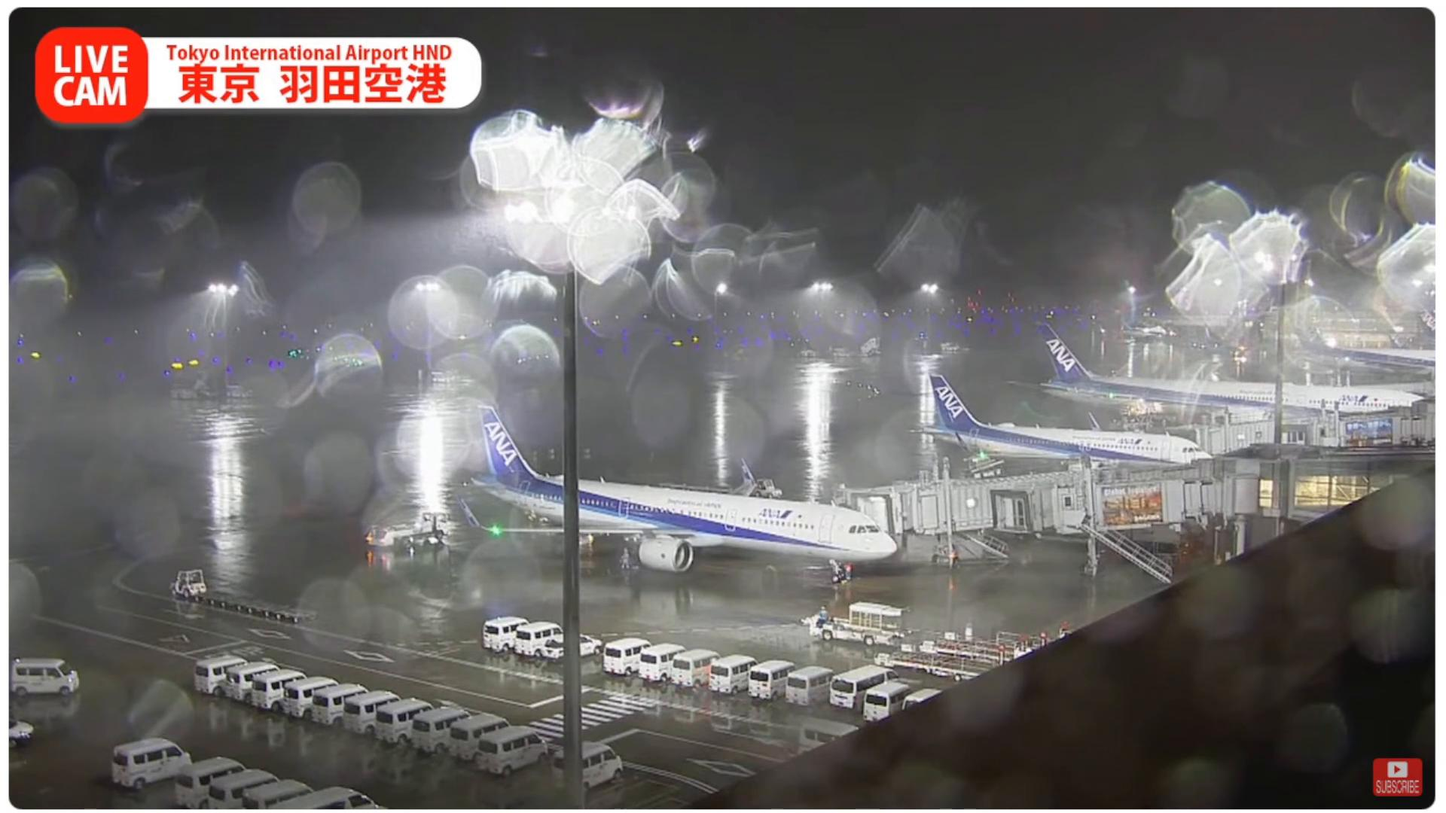Aerobridge: (848, 461, 1195, 536), (988, 472, 1227, 537)
Airplane: (456, 404, 898, 585)
Dolly: (189, 591, 322, 625), (660, 481, 754, 496)
JCPL: (874, 647, 1012, 682), (913, 631, 1059, 660)
Skyloader: (798, 598, 916, 647)
Tractor: (168, 568, 208, 600), (753, 476, 783, 500)
Window: (1291, 475, 1415, 508)
